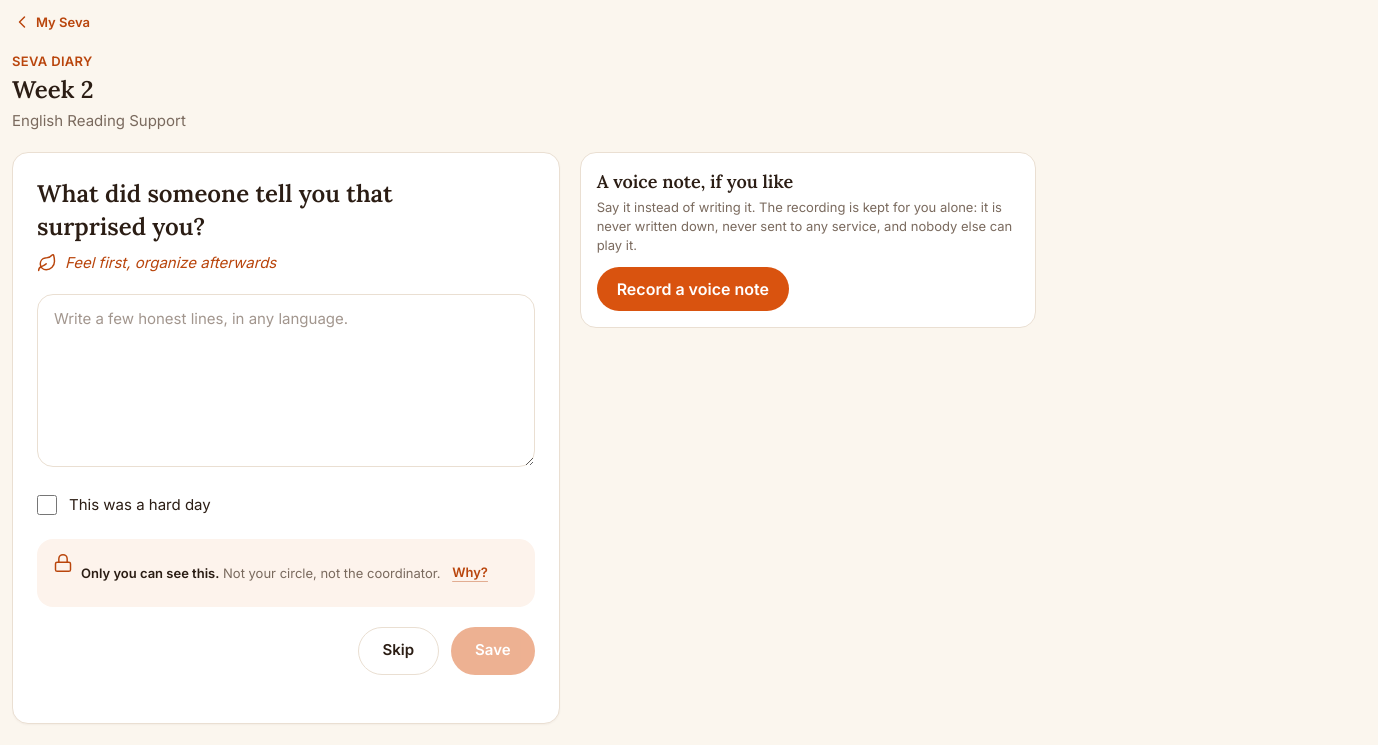
it: Diary › a failed save keeps the words and says so
Type "words" into the text box named "Your answer" at (286, 380), box x1=37 y1=294 x2=535 y2=467
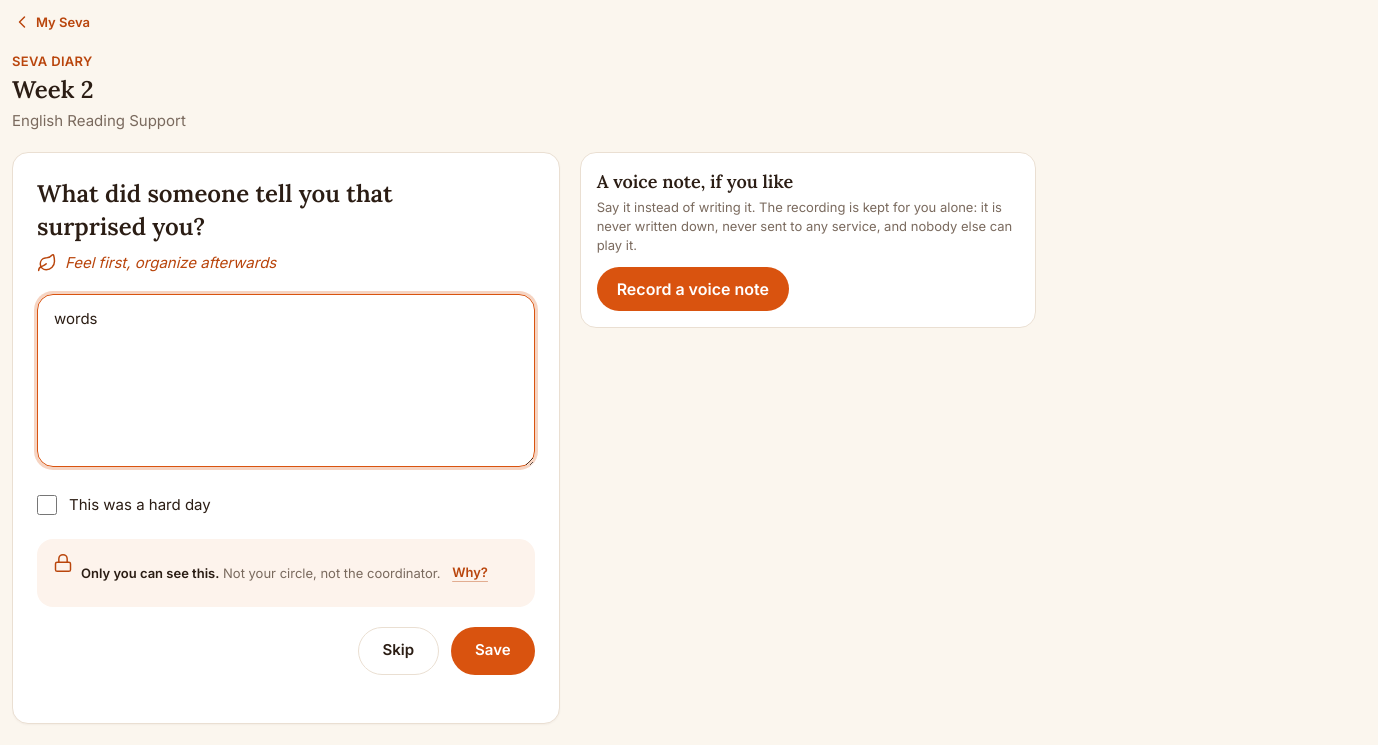
Click the button "Save" at (493, 651), box x1=451 y1=627 x2=535 y2=675
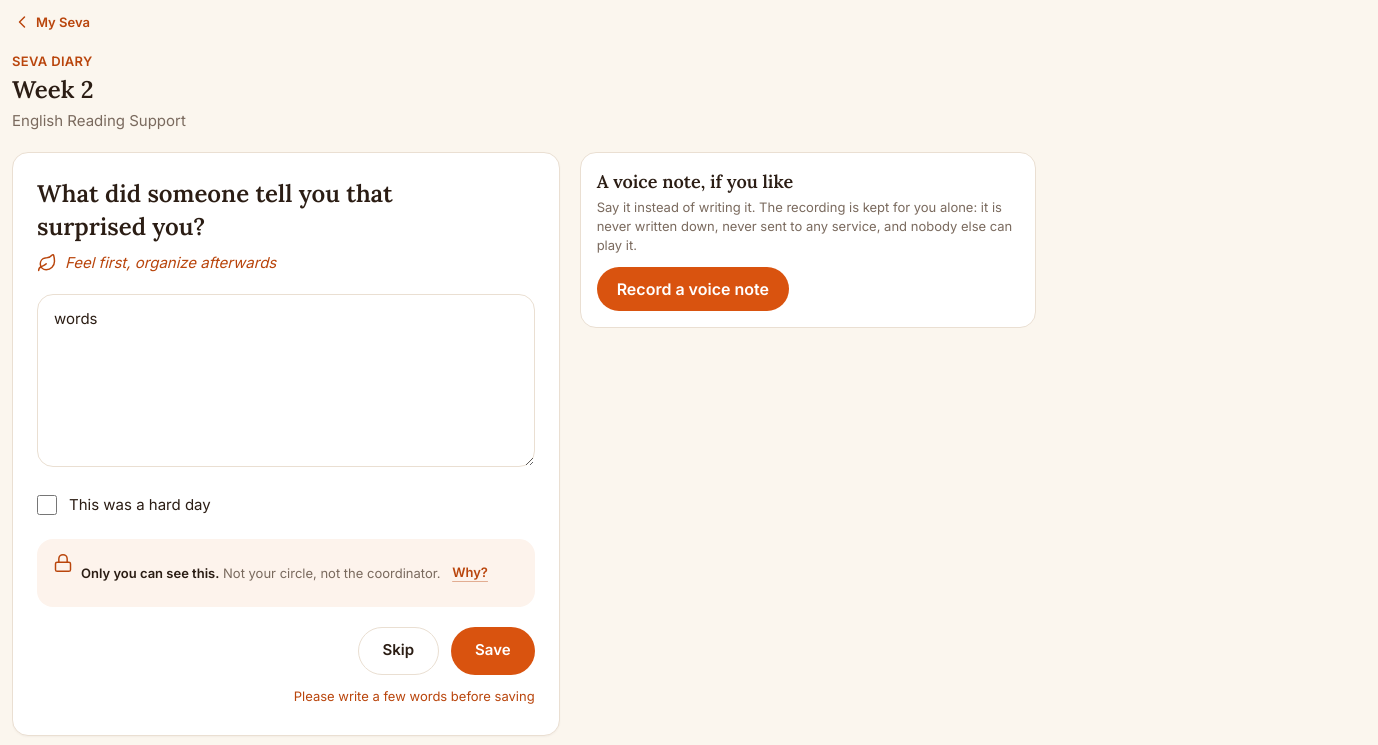
Expected: the message reads "Please write a few words before saving", x1=294 y1=688 x2=535 y2=704
